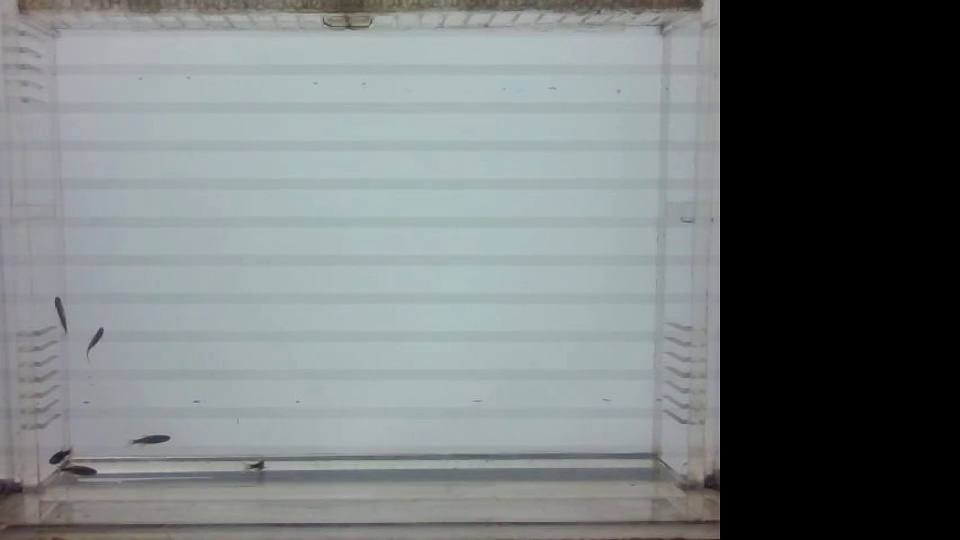fish: (49, 288, 73, 338), (80, 320, 109, 361), (124, 432, 176, 450), (46, 438, 72, 468), (60, 462, 100, 477), (238, 457, 268, 476)
